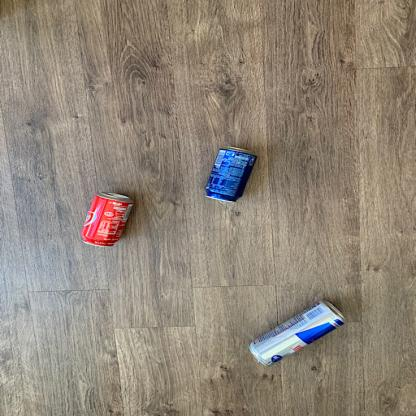trash: (251, 298, 347, 370), (206, 145, 260, 207), (81, 190, 136, 250)
